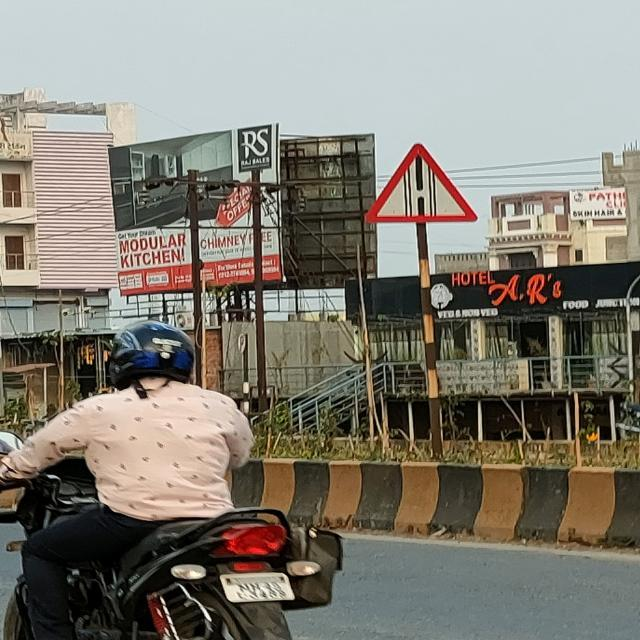gap in median: (362, 141, 479, 226)
